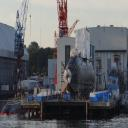submarine: (63, 58, 96, 97)
